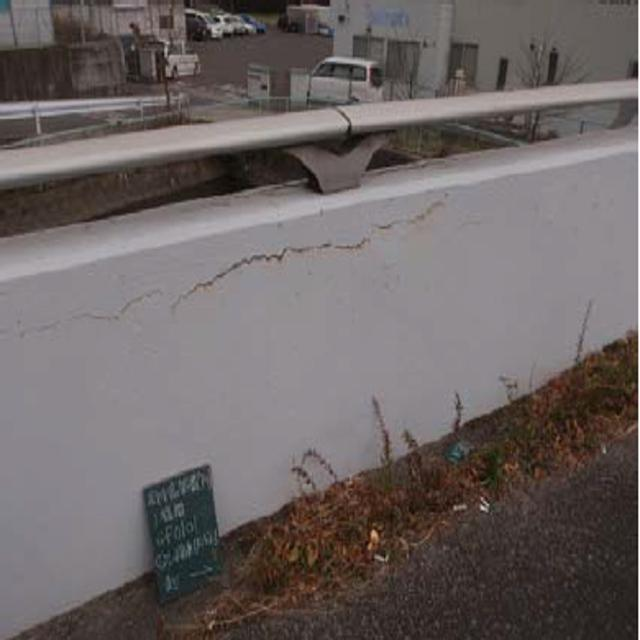crack: (6, 196, 484, 337)
